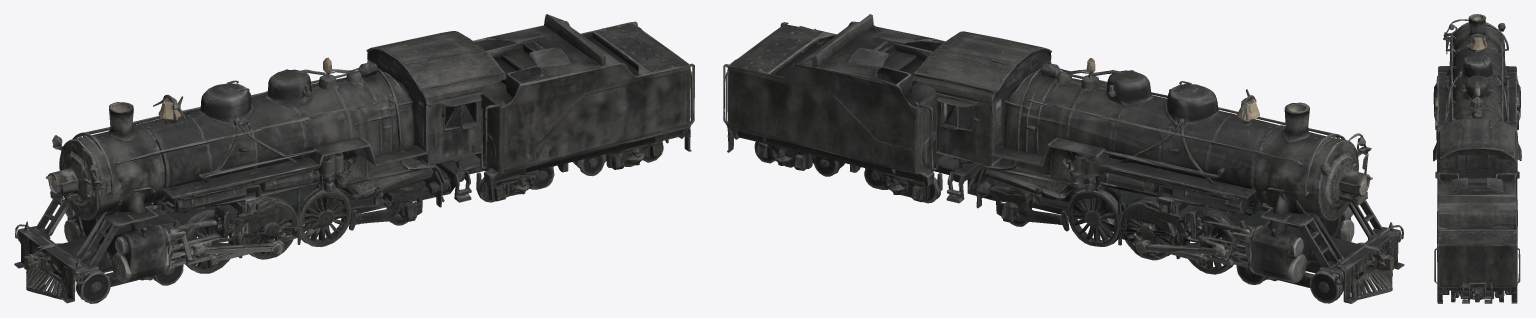
File: locomotive.glb
3 renders of one model, left to right at view 1: azimuth 30°, elevation 25°; view 2: azimuth 150°, elevation 25°; view 3: azimuth 270°, elevation 25°, orthographic. The views are drawn at different scales.
Parts seen in each view (by area): view 1: Mesh_0; view 2: Mesh_0; view 3: Mesh_0.
Boxes of the visible parts, <box> form: Mesh_0: <box>14,14,694,303</box>; Mesh_0: <box>723,14,1404,303</box>; Mesh_0: <box>1433,14,1521,303</box>.
Bounding box in the file's own units: 1.9 × 0.4795 × 0.3272.
1 material, 1 textured.
